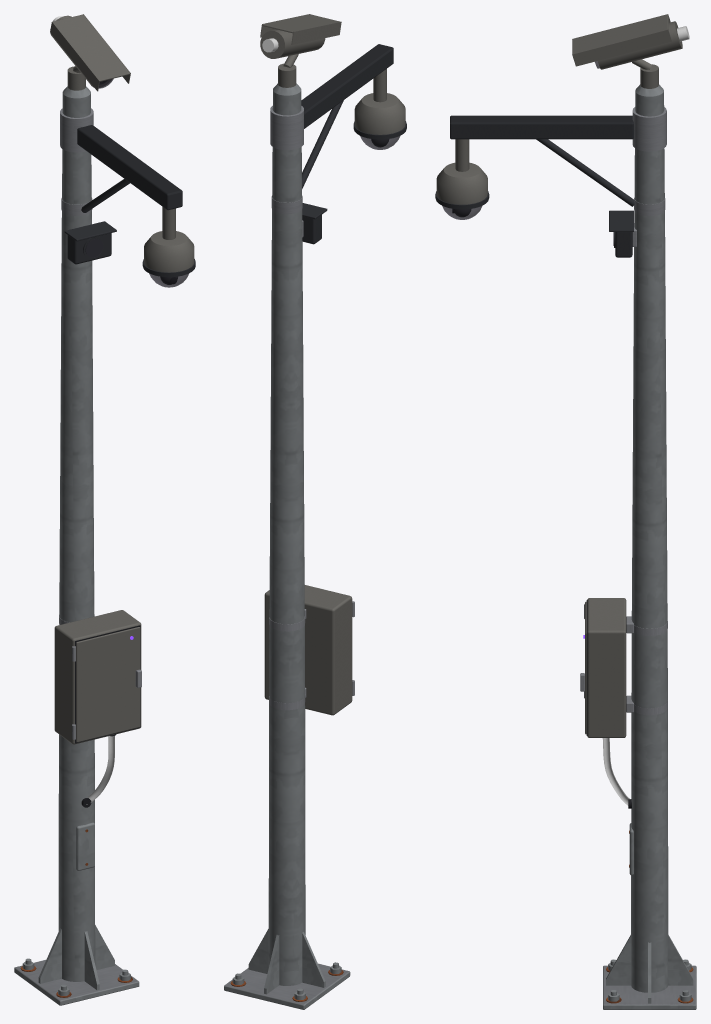
Rendered from security_camera_pole.glb.
The picture shows the model from 3 angles, left to right: view 1: azimuth 30°, elevation 25°; view 2: azimuth 150°, elevation 25°; view 3: azimuth 270°, elevation 25°; orthographic projection.
Visible parts, largest first — view 1: pole_steel_galvanised_1, box_powdercoat_grey_1, bullet_powdercoat_grey_0, arm_powdercoat_graphite_2, dome_powdercoat_grey_0, pole_steel_brushed_wet_0, arm_powdercoat_graphite_wet_1, ir_lamp_powdercoat_graphite_0, arm_steel_brushed_0, conduit_rubber_0, arm_powdercoat_grey_3; view 2: pole_steel_galvanised_1, box_powdercoat_grey_1, bullet_powdercoat_grey_0, arm_powdercoat_graphite_2, dome_powdercoat_grey_0, arm_steel_brushed_0, pole_steel_brushed_wet_0, arm_powdercoat_graphite_wet_1, ir_lamp_powdercoat_graphite_0, box_steel_brushed_0; view 3: pole_steel_galvanised_1, box_powdercoat_grey_1, bullet_powdercoat_grey_0, arm_powdercoat_graphite_2, dome_powdercoat_grey_0, arm_powdercoat_graphite_wet_1, arm_steel_brushed_0, pole_steel_brushed_wet_0, ir_lamp_powdercoat_graphite_0, box_steel_brushed_0.
Part boxes in pixels (left/top/right/bottom): pole_steel_galvanised_1: left=14, top=86, right=139, bottom=1005; box_powdercoat_grey_1: left=54, top=610, right=141, bottom=744; bullet_powdercoat_grey_0: left=50, top=14, right=130, bottom=91; arm_powdercoat_graphite_2: left=77, top=129, right=182, bottom=212; dome_powdercoat_grey_0: left=144, top=231, right=194, bottom=272; pole_steel_brushed_wet_0: left=14, top=960, right=138, bottom=1000; arm_powdercoat_graphite_wet_1: left=77, top=125, right=181, bottom=194; ir_lamp_powdercoat_graphite_0: left=64, top=221, right=116, bottom=264; arm_steel_brushed_0: left=60, top=108, right=93, bottom=215; conduit_rubber_0: left=86, top=736, right=114, bottom=804; arm_powdercoat_grey_3: left=162, top=207, right=175, bottom=239; pole_steel_galvanised_1: left=224, top=83, right=350, bottom=1009; box_powdercoat_grey_1: left=264, top=585, right=352, bottom=715; bullet_powdercoat_grey_0: left=260, top=14, right=341, bottom=87; arm_powdercoat_graphite_2: left=302, top=48, right=393, bottom=188; dome_powdercoat_grey_0: left=354, top=93, right=405, bottom=134; arm_steel_brushed_0: left=270, top=105, right=303, bottom=214; pole_steel_brushed_wet_0: left=224, top=963, right=349, bottom=1004; arm_powdercoat_graphite_wet_1: left=301, top=44, right=393, bottom=113; ir_lamp_powdercoat_graphite_0: left=302, top=203, right=327, bottom=244; box_steel_brushed_0: left=269, top=601, right=354, bottom=710; pole_steel_galvanised_1: left=603, top=84, right=696, bottom=1009; box_powdercoat_grey_1: left=585, top=598, right=626, bottom=737; bullet_powdercoat_grey_0: left=572, top=14, right=682, bottom=88; arm_powdercoat_graphite_2: left=450, top=123, right=634, bottom=206; dome_powdercoat_grey_0: left=436, top=162, right=487, bottom=204; arm_powdercoat_graphite_wet_1: left=450, top=115, right=633, bottom=123; arm_steel_brushed_0: left=632, top=107, right=666, bottom=215; pole_steel_brushed_wet_0: left=603, top=965, right=695, bottom=1004; ir_lamp_powdercoat_graphite_0: left=609, top=210, right=633, bottom=257; box_steel_brushed_0: left=580, top=604, right=667, bottom=715.
Size of what is drawn, in the model's own units: 0.3 by 3.42 by 0.836.
Materials: 14 (9 with a texture image).
